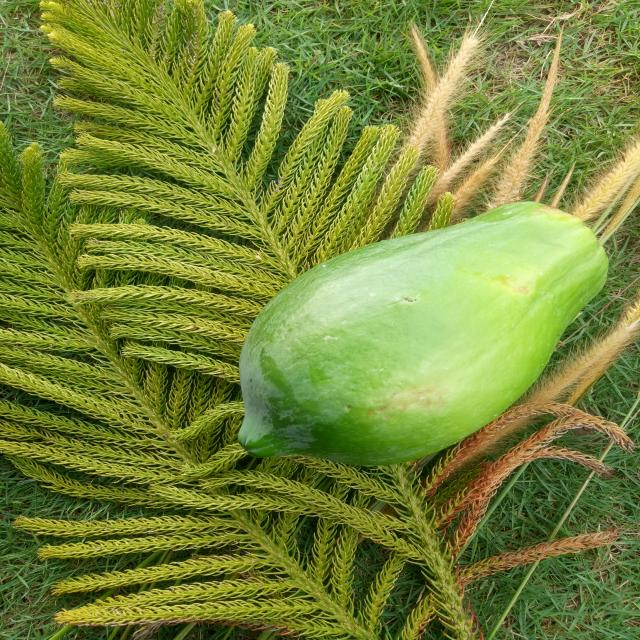Pepaya unrippen: (233, 200, 617, 467)
